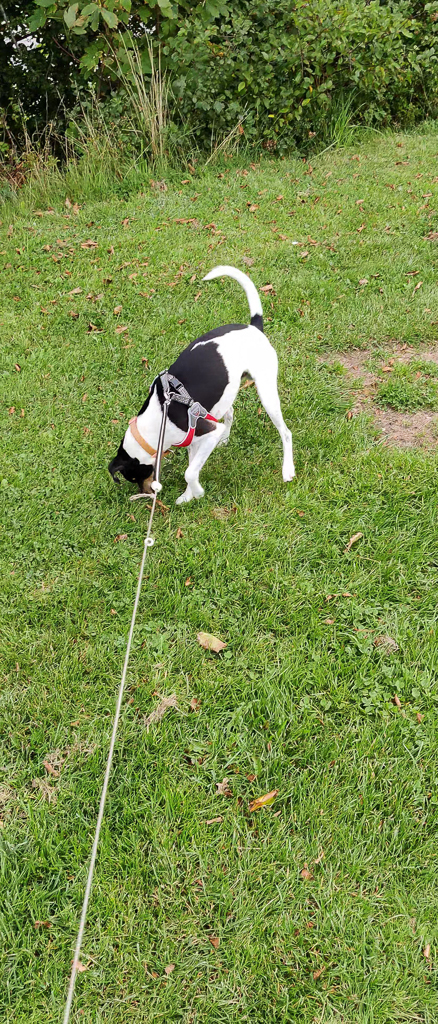Dog: (96, 257, 307, 514)
